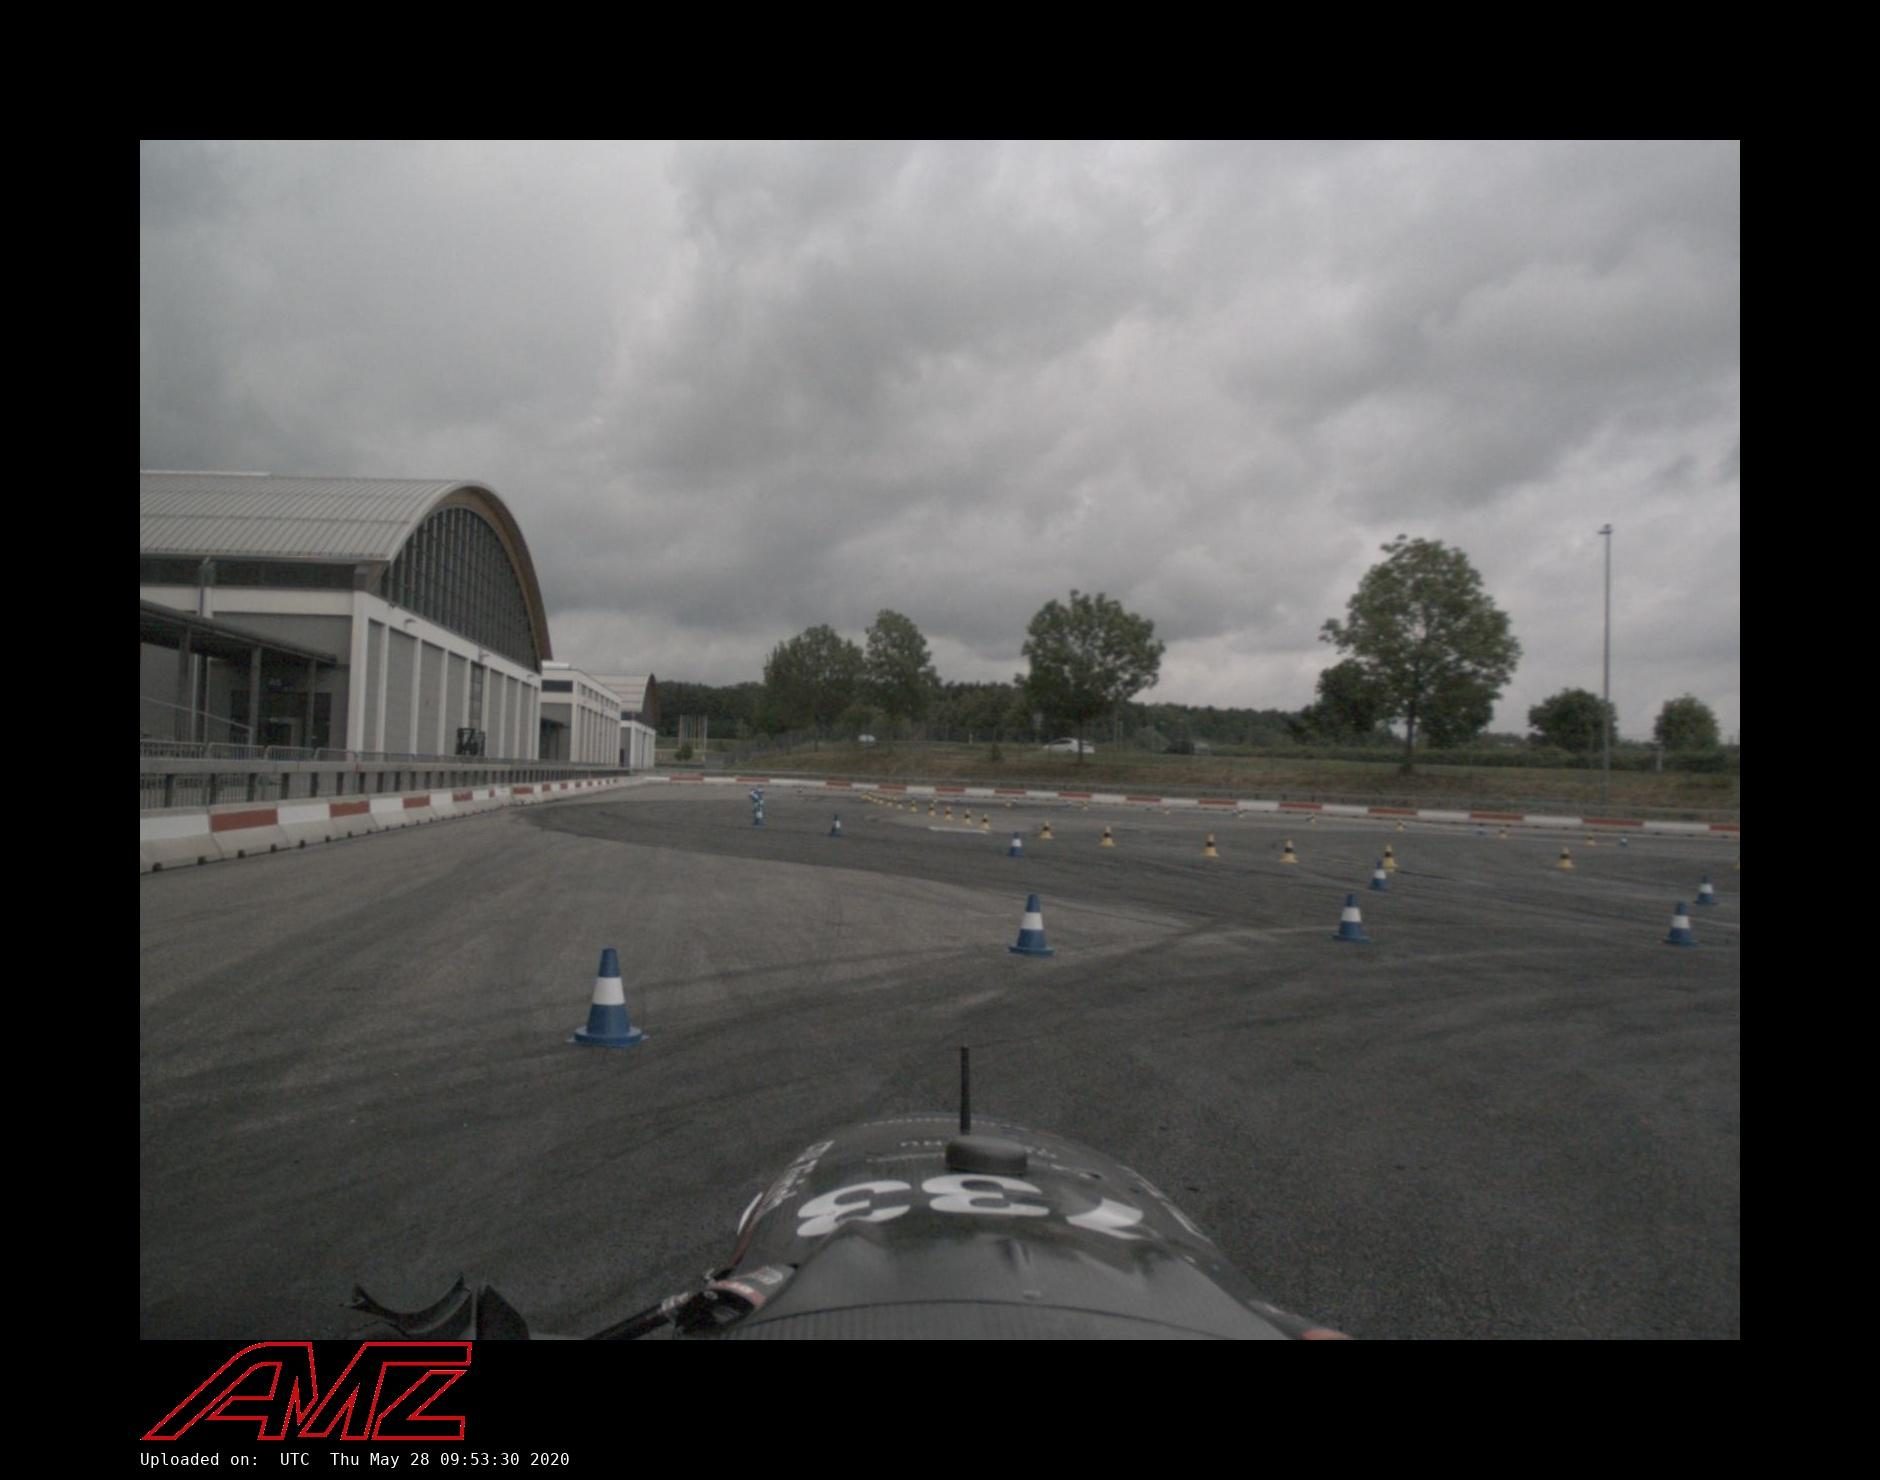blue_cone: (562, 948, 653, 1047), (1007, 894, 1056, 957), (1329, 893, 1373, 941), (1660, 899, 1698, 946), (1692, 874, 1718, 905), (827, 812, 844, 838), (751, 804, 768, 827), (1619, 835, 1630, 848)
yellow_cone: (1367, 851, 1399, 886), (1280, 839, 1302, 861), (1555, 845, 1575, 868), (1202, 833, 1221, 856), (1007, 836, 1025, 853), (1102, 827, 1115, 845), (1041, 822, 1054, 839), (942, 804, 955, 821), (961, 809, 972, 827), (1585, 830, 1598, 845), (926, 803, 937, 816), (981, 816, 990, 828)
